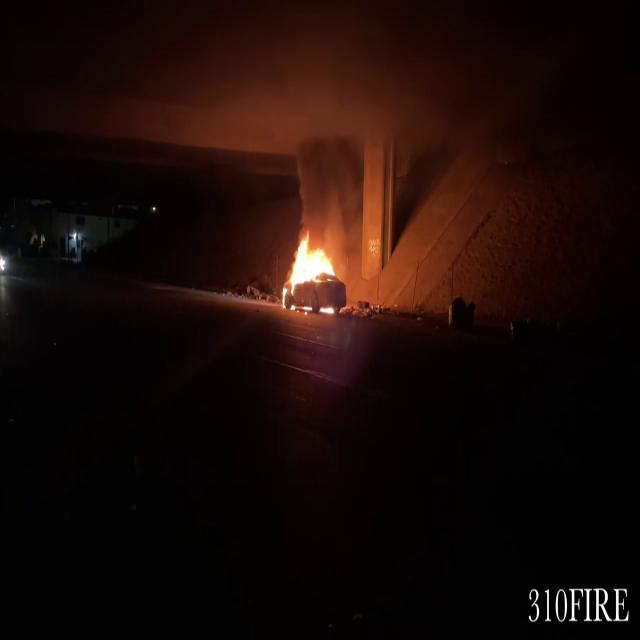Fire: (279, 223, 344, 311)
